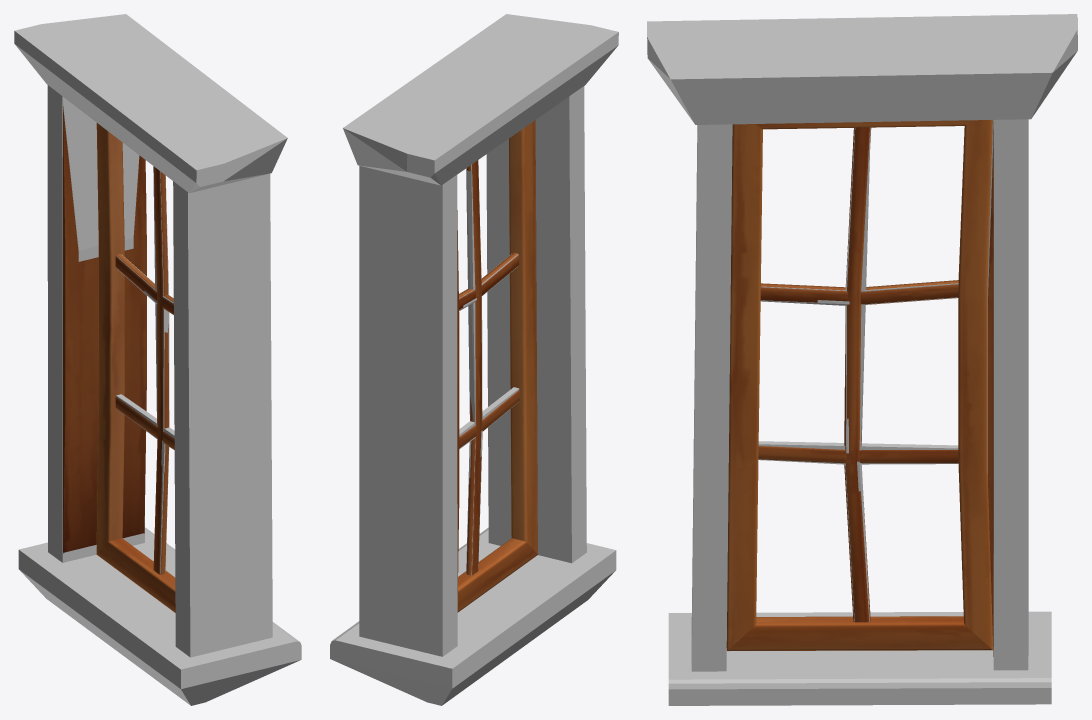
Rendered from SM_PropWindow01TypeF_2_1.fbx.
3 views of the same model, side by side, from view 1: azimuth 30°, elevation 25°; view 2: azimuth 150°, elevation 25°; view 3: azimuth 270°, elevation 25° (orthographic). The views are drawn at different scales.
Parts seen in each view (by area): view 1: SM_PropWindow01TypeF_2_1_ConvexHulls, SM_PropWindow01TypeF_2_1; view 2: SM_PropWindow01TypeF_2_1_ConvexHulls, SM_PropWindow01TypeF_2_1; view 3: SM_PropWindow01TypeF_2_1_ConvexHulls, SM_PropWindow01TypeF_2_1.
Part boxes in pixels (x1,y1,x2,y2): SM_PropWindow01TypeF_2_1_ConvexHulls: (14,14,301,705); SM_PropWindow01TypeF_2_1: (63,106,175,612); SM_PropWindow01TypeF_2_1_ConvexHulls: (330,14,618,705); SM_PropWindow01TypeF_2_1: (457,120,537,612); SM_PropWindow01TypeF_2_1_ConvexHulls: (647,14,1077,705); SM_PropWindow01TypeF_2_1: (726,120,993,656).
Size of the model in its own units: 45.27 by 118 by 200.
Materials: 2 (1 with a texture image).
